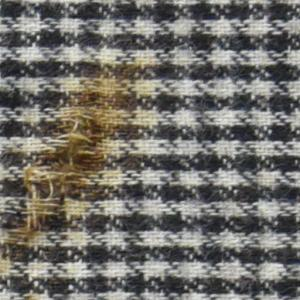Damage: (6, 74, 122, 264)
Oil Stain: (1, 50, 167, 300)
